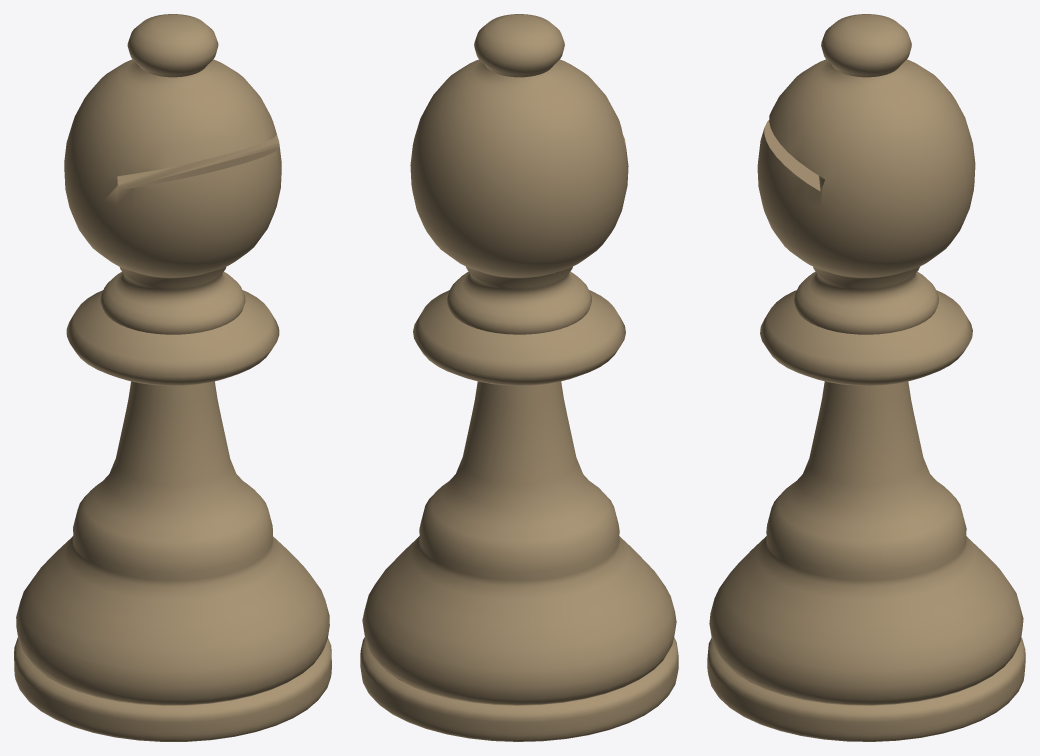
The picture shows the model from 3 angles, left to right: view 1: azimuth 30°, elevation 25°; view 2: azimuth 150°, elevation 25°; view 3: azimuth 270°, elevation 25°; orthographic projection.
Visible parts, largest first — view 1: ALFIERE3; view 2: ALFIERE3; view 3: ALFIERE3.
Part boxes in pixels (x1,y1,x2,y2): ALFIERE3: [14, 14, 331, 741]; ALFIERE3: [360, 14, 678, 741]; ALFIERE3: [707, 14, 1025, 741].
Size of the model in its own units: 157 by 357 by 157.
